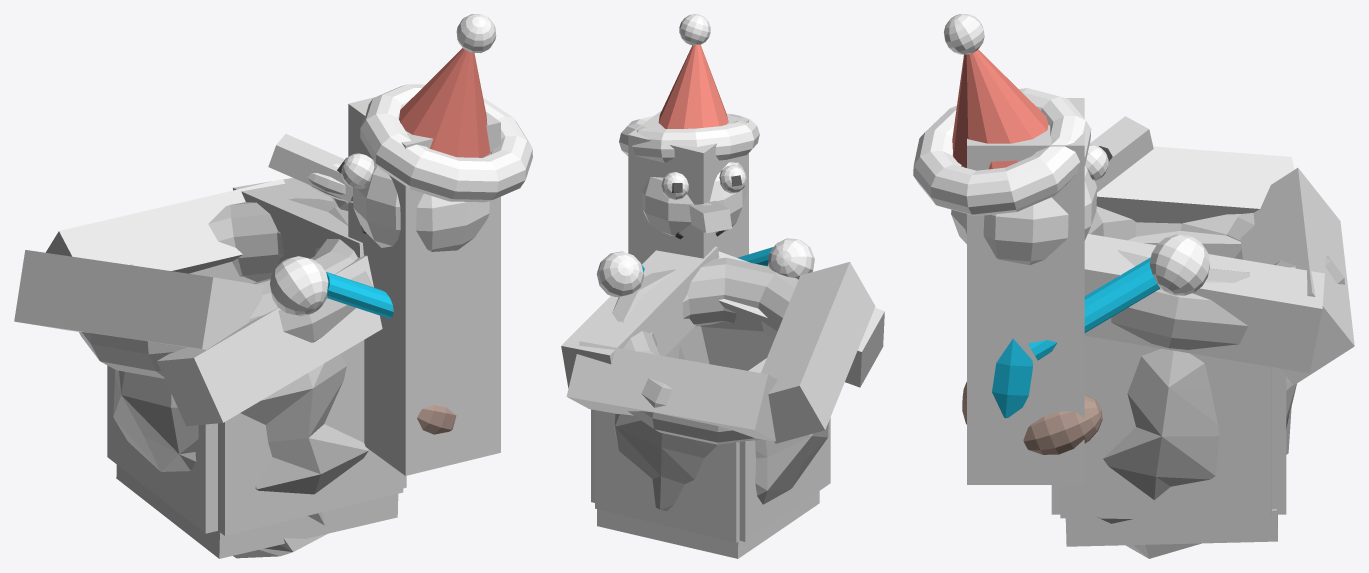
Rendered from elf.glb.
3 views of the same model, side by side, from view 1: azimuth 30°, elevation 25°; view 2: azimuth 150°, elevation 25°; view 3: azimuth 270°, elevation 25° (orthographic). The views are drawn at different scales.
Parts seen in each view (by area): view 1: Cube, group991577953, group1320189938, Cube.006, Cube.007, Cube.002, Cube.008, Cube.011, group564245017, Cube.012, Cube.005, group1091252299 (+5 smaller); view 2: group991577953, Cube.006, Cube.008, Cube.009, group1320189938, Cube, Cube.005, Cube.011, Cube.012, group564245017, Cube.007, Cube.002 (+6 smaller); view 3: Cube, group991577953, Cube.010, group1320189938, Cube.005, Cube.006, Cube.008, Cube.012, group564245017, group1061307110, group474016396, group1948668466 (+5 smaller).
Boxes of the visible parts, x1=… form: Cube: x1=348, y1=97, x2=500, y2=475; group991577953: x1=79, y1=198, x2=372, y2=558; group1320189938: x1=360, y1=14, x2=532, y2=202; Cube.006: x1=14, y1=250, x2=263, y2=349; Cube.007: x1=157, y1=255, x2=382, y2=425; Cube.002: x1=218, y1=340, x2=403, y2=535; Cube.008: x1=46, y1=179, x2=285, y2=273; Cube.011: x1=107, y1=365, x2=217, y2=533; group564245017: x1=353, y1=159, x2=489, y2=251; Cube.012: x1=116, y1=464, x2=398, y2=558; Cube.005: x1=233, y1=178, x2=363, y2=264; group1091252299: x1=270, y1=256, x2=328, y2=316; group991577953: x1=612, y1=257, x2=828, y2=511; Cube.006: x1=761, y1=262, x2=875, y2=443; Cube.008: x1=566, y1=341, x2=777, y2=441; Cube.009: x1=595, y1=410, x2=739, y2=542; group1320189938: x1=619, y1=14, x2=759, y2=162; Cube: x1=628, y1=110, x2=748, y2=264; Cube.005: x1=561, y1=246, x2=719, y2=388; Cube.011: x1=739, y1=358, x2=830, y2=541; Cube.012: x1=597, y1=491, x2=819, y2=558; group564245017: x1=642, y1=162, x2=746, y2=235; Cube.007: x1=700, y1=251, x2=884, y2=387; Cube.002: x1=701, y1=327, x2=774, y2=370; Cube: x1=967, y1=98, x2=1084, y2=484; group991577953: x1=1088, y1=206, x2=1344, y2=558; Cube.010: x1=1060, y1=336, x2=1271, y2=520; group1320189938: x1=913, y1=14, x2=1091, y2=216; Cube.005: x1=1084, y1=234, x2=1324, y2=373; Cube.006: x1=1090, y1=141, x2=1294, y2=223; Cube.008: x1=1240, y1=168, x2=1354, y2=385; Cube.012: x1=1065, y1=509, x2=1277, y2=546; group564245017: x1=951, y1=165, x2=1097, y2=265; group1061307110: x1=1028, y1=257, x2=1159, y2=360; group474016396: x1=1149, y1=234, x2=1209, y2=295; group1948668466: x1=1023, y1=394, x2=1102, y2=454.
Bounding box in the file's own units: 0.7234 × 1.06 × 0.7125.
